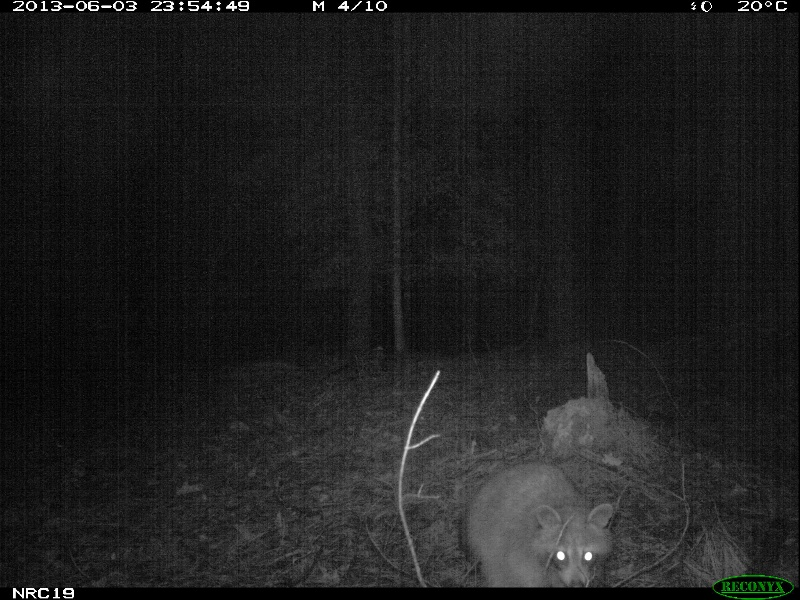raccoon: (467, 461, 617, 585)
